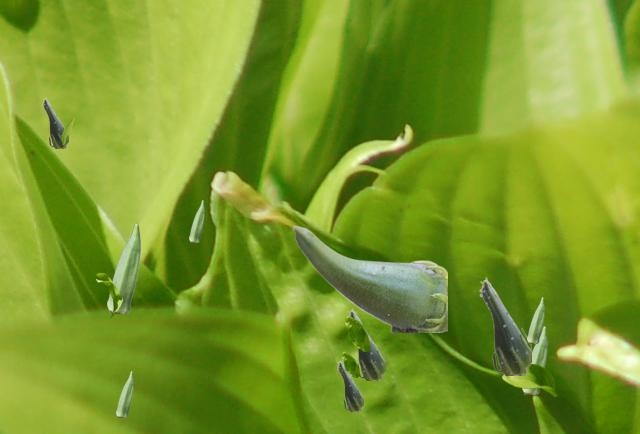okra: (292, 225, 446, 331), (479, 277, 530, 374), (107, 223, 139, 312), (347, 308, 384, 379), (522, 326, 546, 393), (42, 97, 67, 147), (337, 360, 362, 410), (116, 371, 132, 416), (527, 297, 543, 342), (189, 200, 203, 241)
